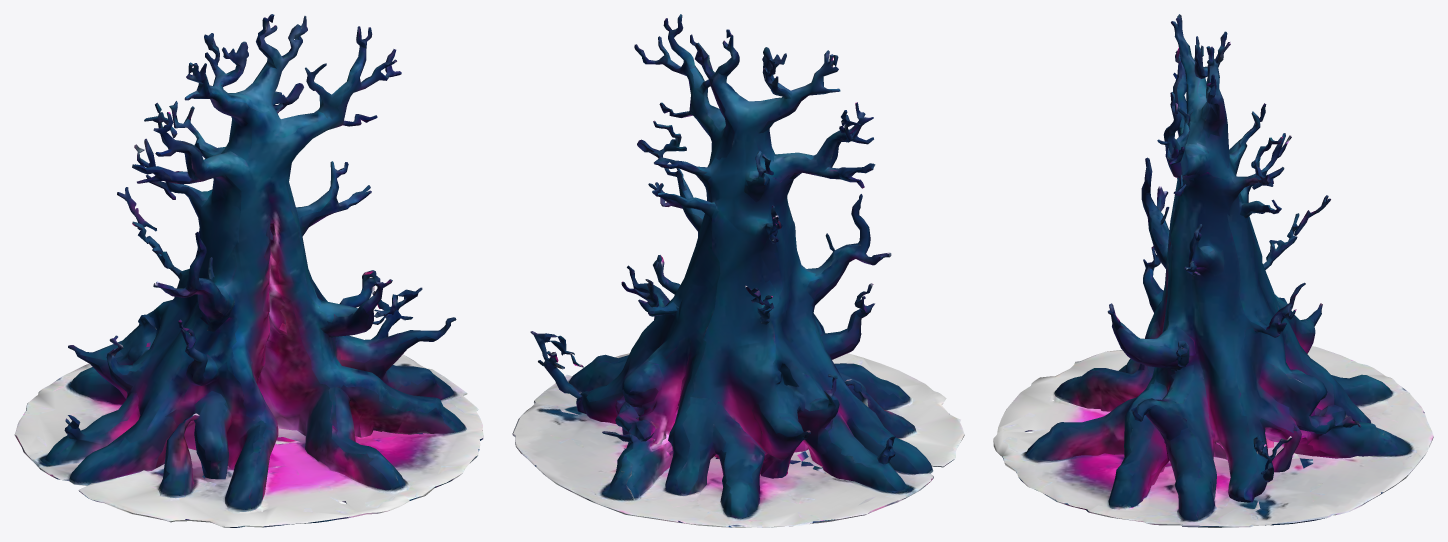
Rendered from sea-root-ne-generated-2026-05-17T19-41-00-695Z.low.glb.
3 views of the same model, side by side, from view 1: azimuth 30°, elevation 25°; view 2: azimuth 150°, elevation 25°; view 3: azimuth 270°, elevation 25° (orthographic). The views are drawn at different scales.
Parts seen in each view (by area): view 1: temp_mesh.ply; view 2: temp_mesh.ply; view 3: temp_mesh.ply.
Part boxes in pixels (left/top/right/bottom): temp_mesh.ply: left=14, top=14, right=483, bottom=527; temp_mesh.ply: left=512, top=14, right=964, bottom=527; temp_mesh.ply: left=993, top=14, right=1433, bottom=527.
Size of the model in its own units: 1.96 by 1.96 by 1.96.
1 material, 1 textured.
